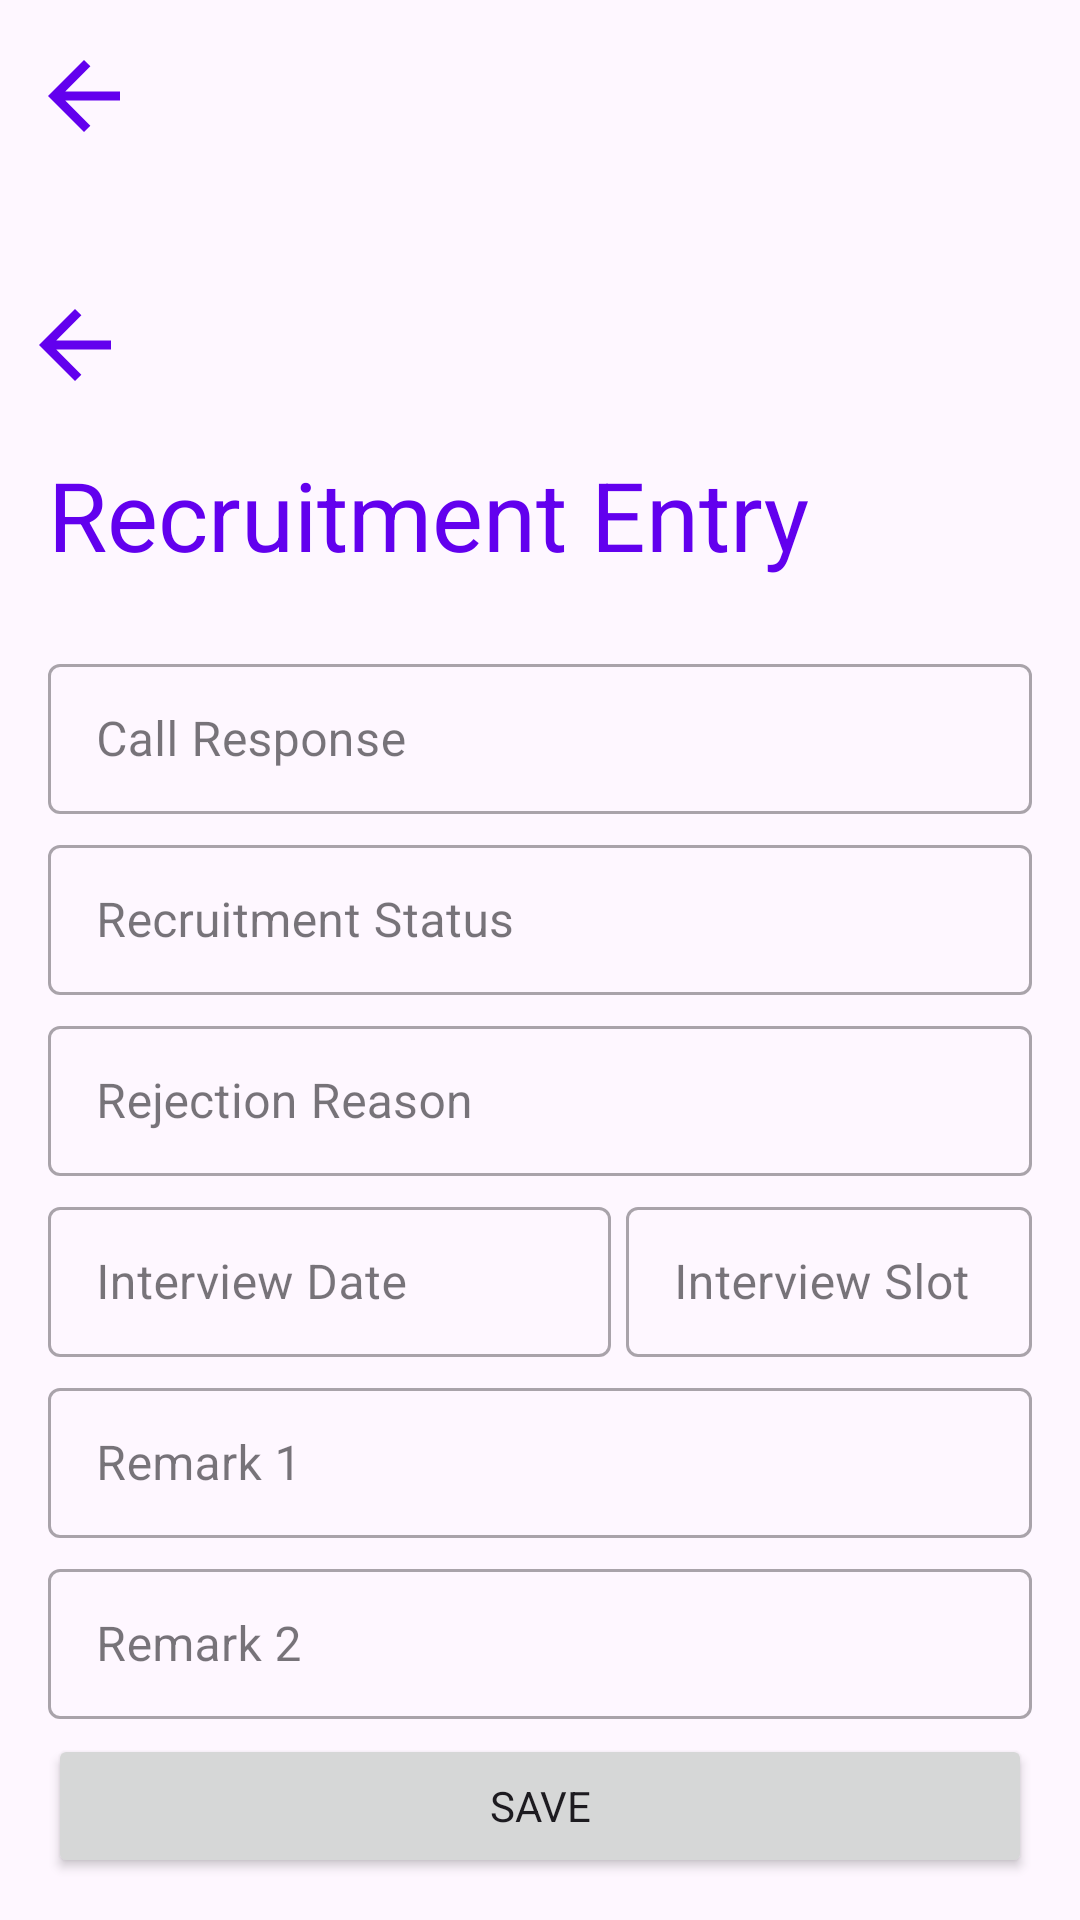

Where icons sit on this 1080px×1920px app screen, as (x1, y1, x2, y2):
back: (48, 60, 120, 132), (39, 309, 111, 381)
